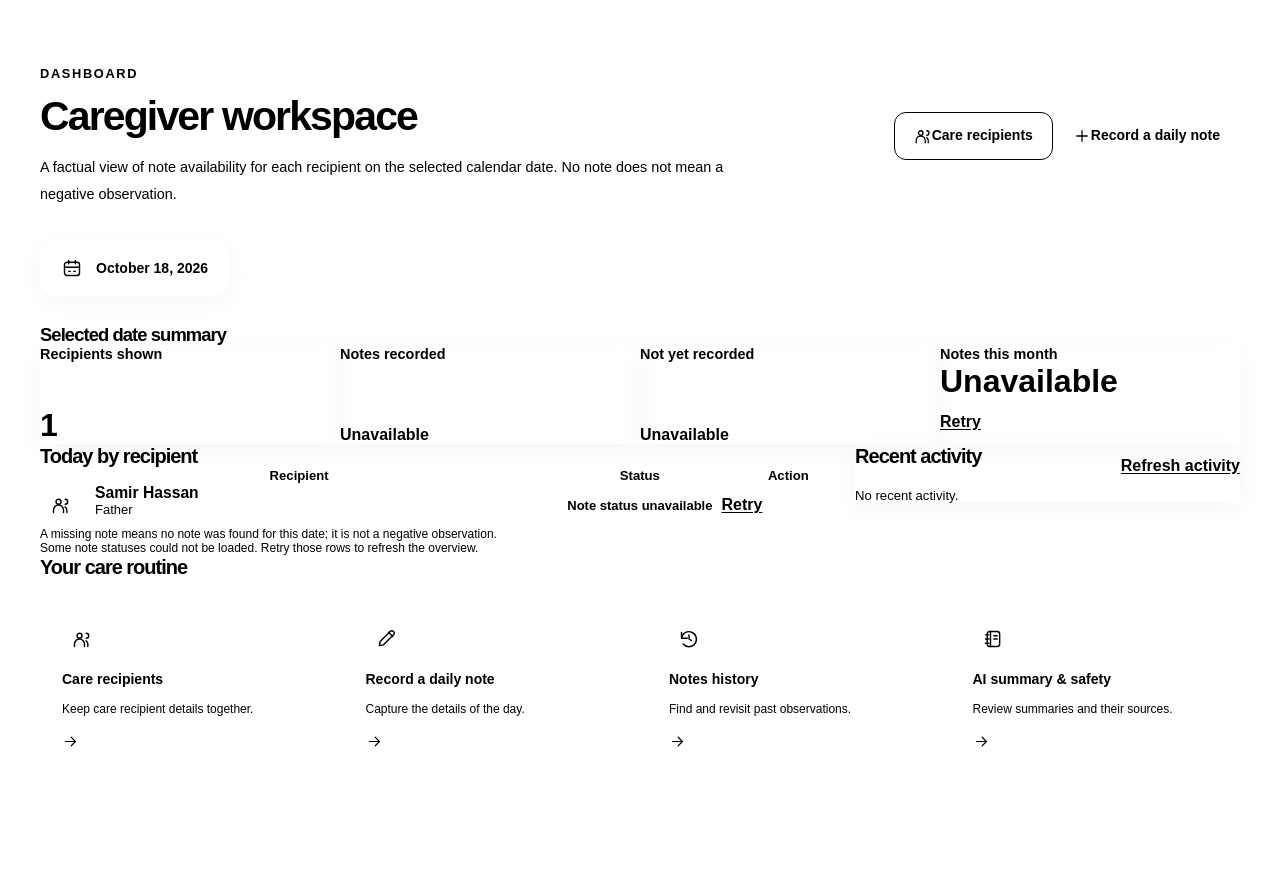
Test case: authenticated workspace overview › does not turn a note request failure into a missing observation
(page scrolled)
Expected: the text "Note status unavailable" is shown, [567,498,712,513]
Expected: the row "Samir Hassan" does not show "No note recorded", [40,483,855,527]
Click the button "Retry" in the row of "Samir Hassan" at x=742, y=505, box [722,483,762,527]
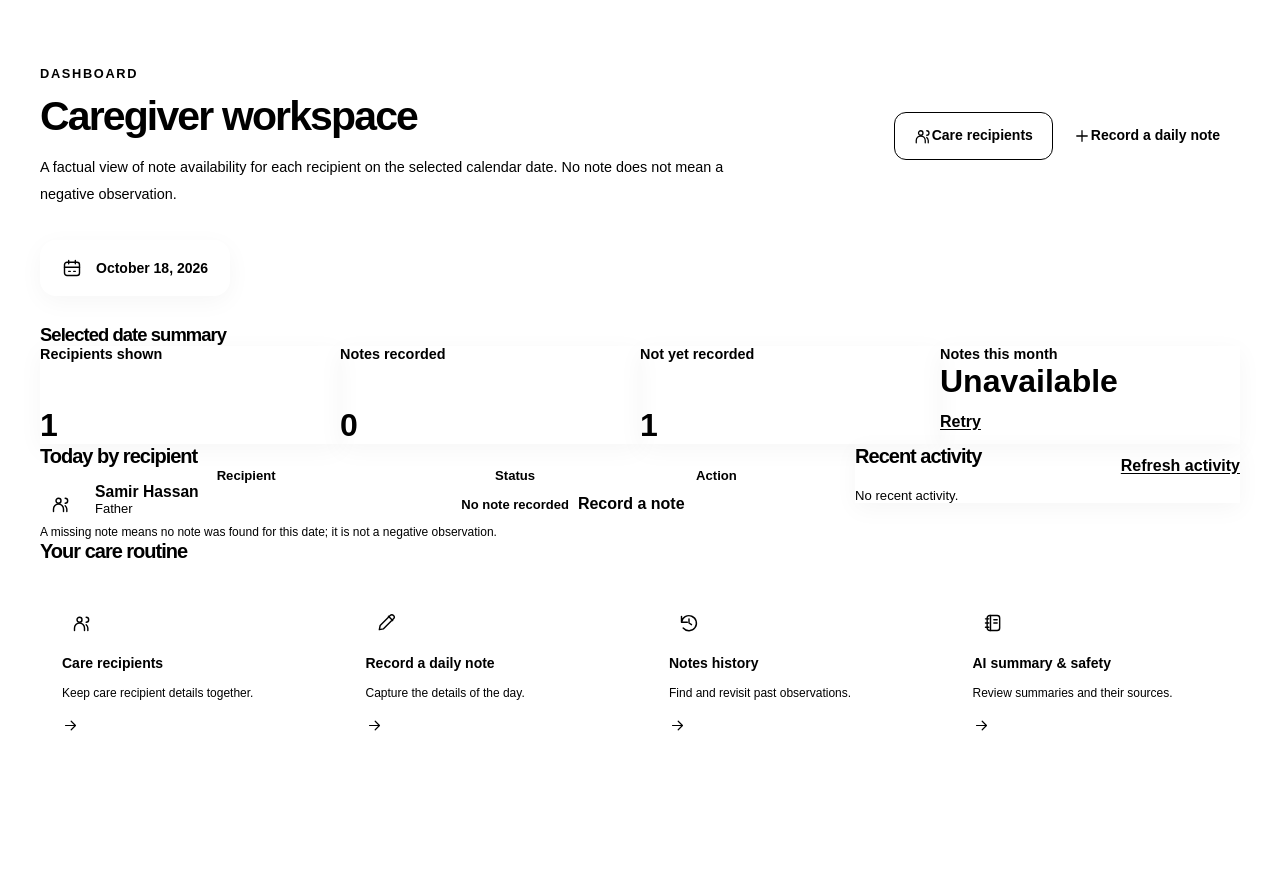
Expected: the text "No note recorded" is shown, [461,497,569,512]
Expected: the text "Note status unavailable" is gone
